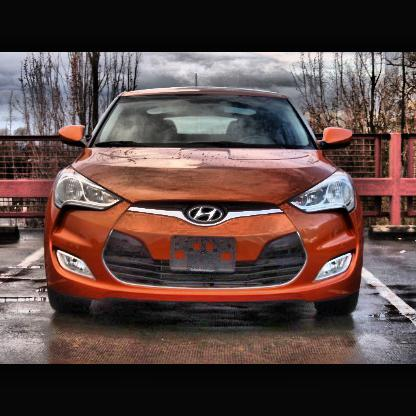Hyundai Veloster Hatchback 2012: (44, 90, 364, 320)
